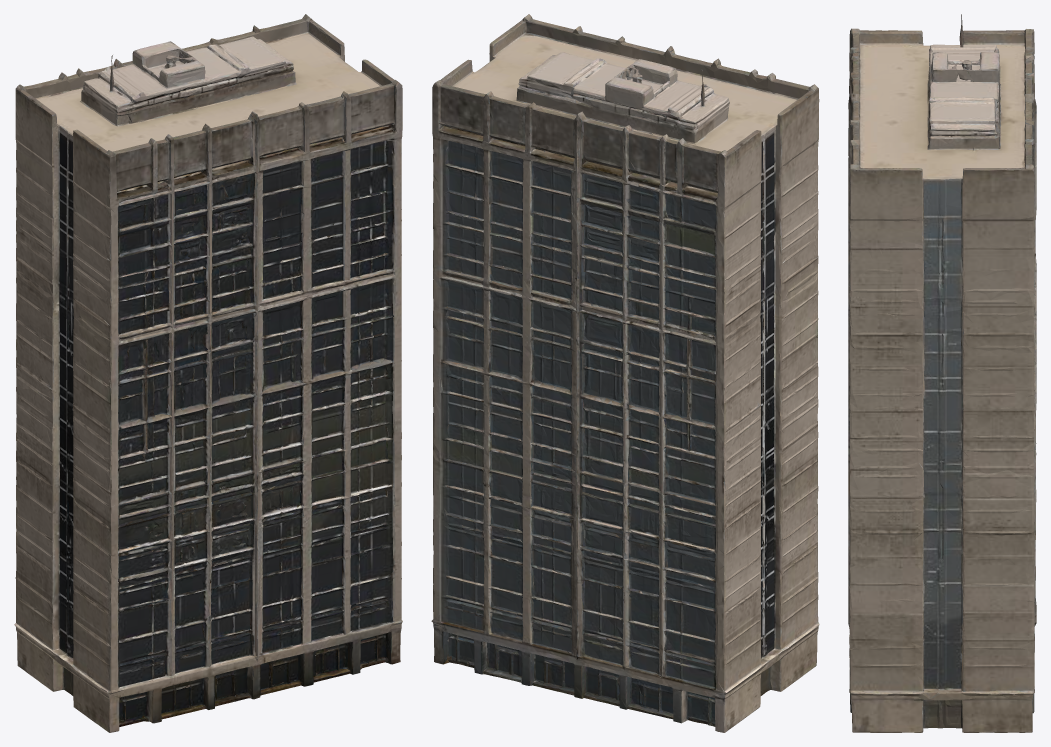
Rendered from tower_a.glb.
The picture shows the model from 3 angles, left to right: view 1: azimuth 30°, elevation 25°; view 2: azimuth 150°, elevation 25°; view 3: azimuth 270°, elevation 25°; orthographic projection. The views are drawn at different scales.
Parts seen in each view (by area): view 1: world; view 2: world; view 3: world.
Part boxes in pixels (x1=…): world: x1=14, y1=14, x2=402, y2=732; world: x1=431, y1=14, x2=819, y2=732; world: x1=848, y1=14, x2=1036, y2=732.
Bounding box in the file's own units: 0.9874 × 1.99 × 0.5581.
Materials: 1 (1 with a texture image).
